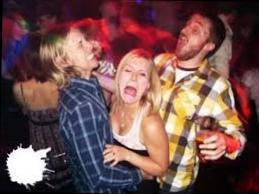Drunk: (119, 54, 148, 102), (66, 30, 100, 69), (177, 16, 207, 60)
